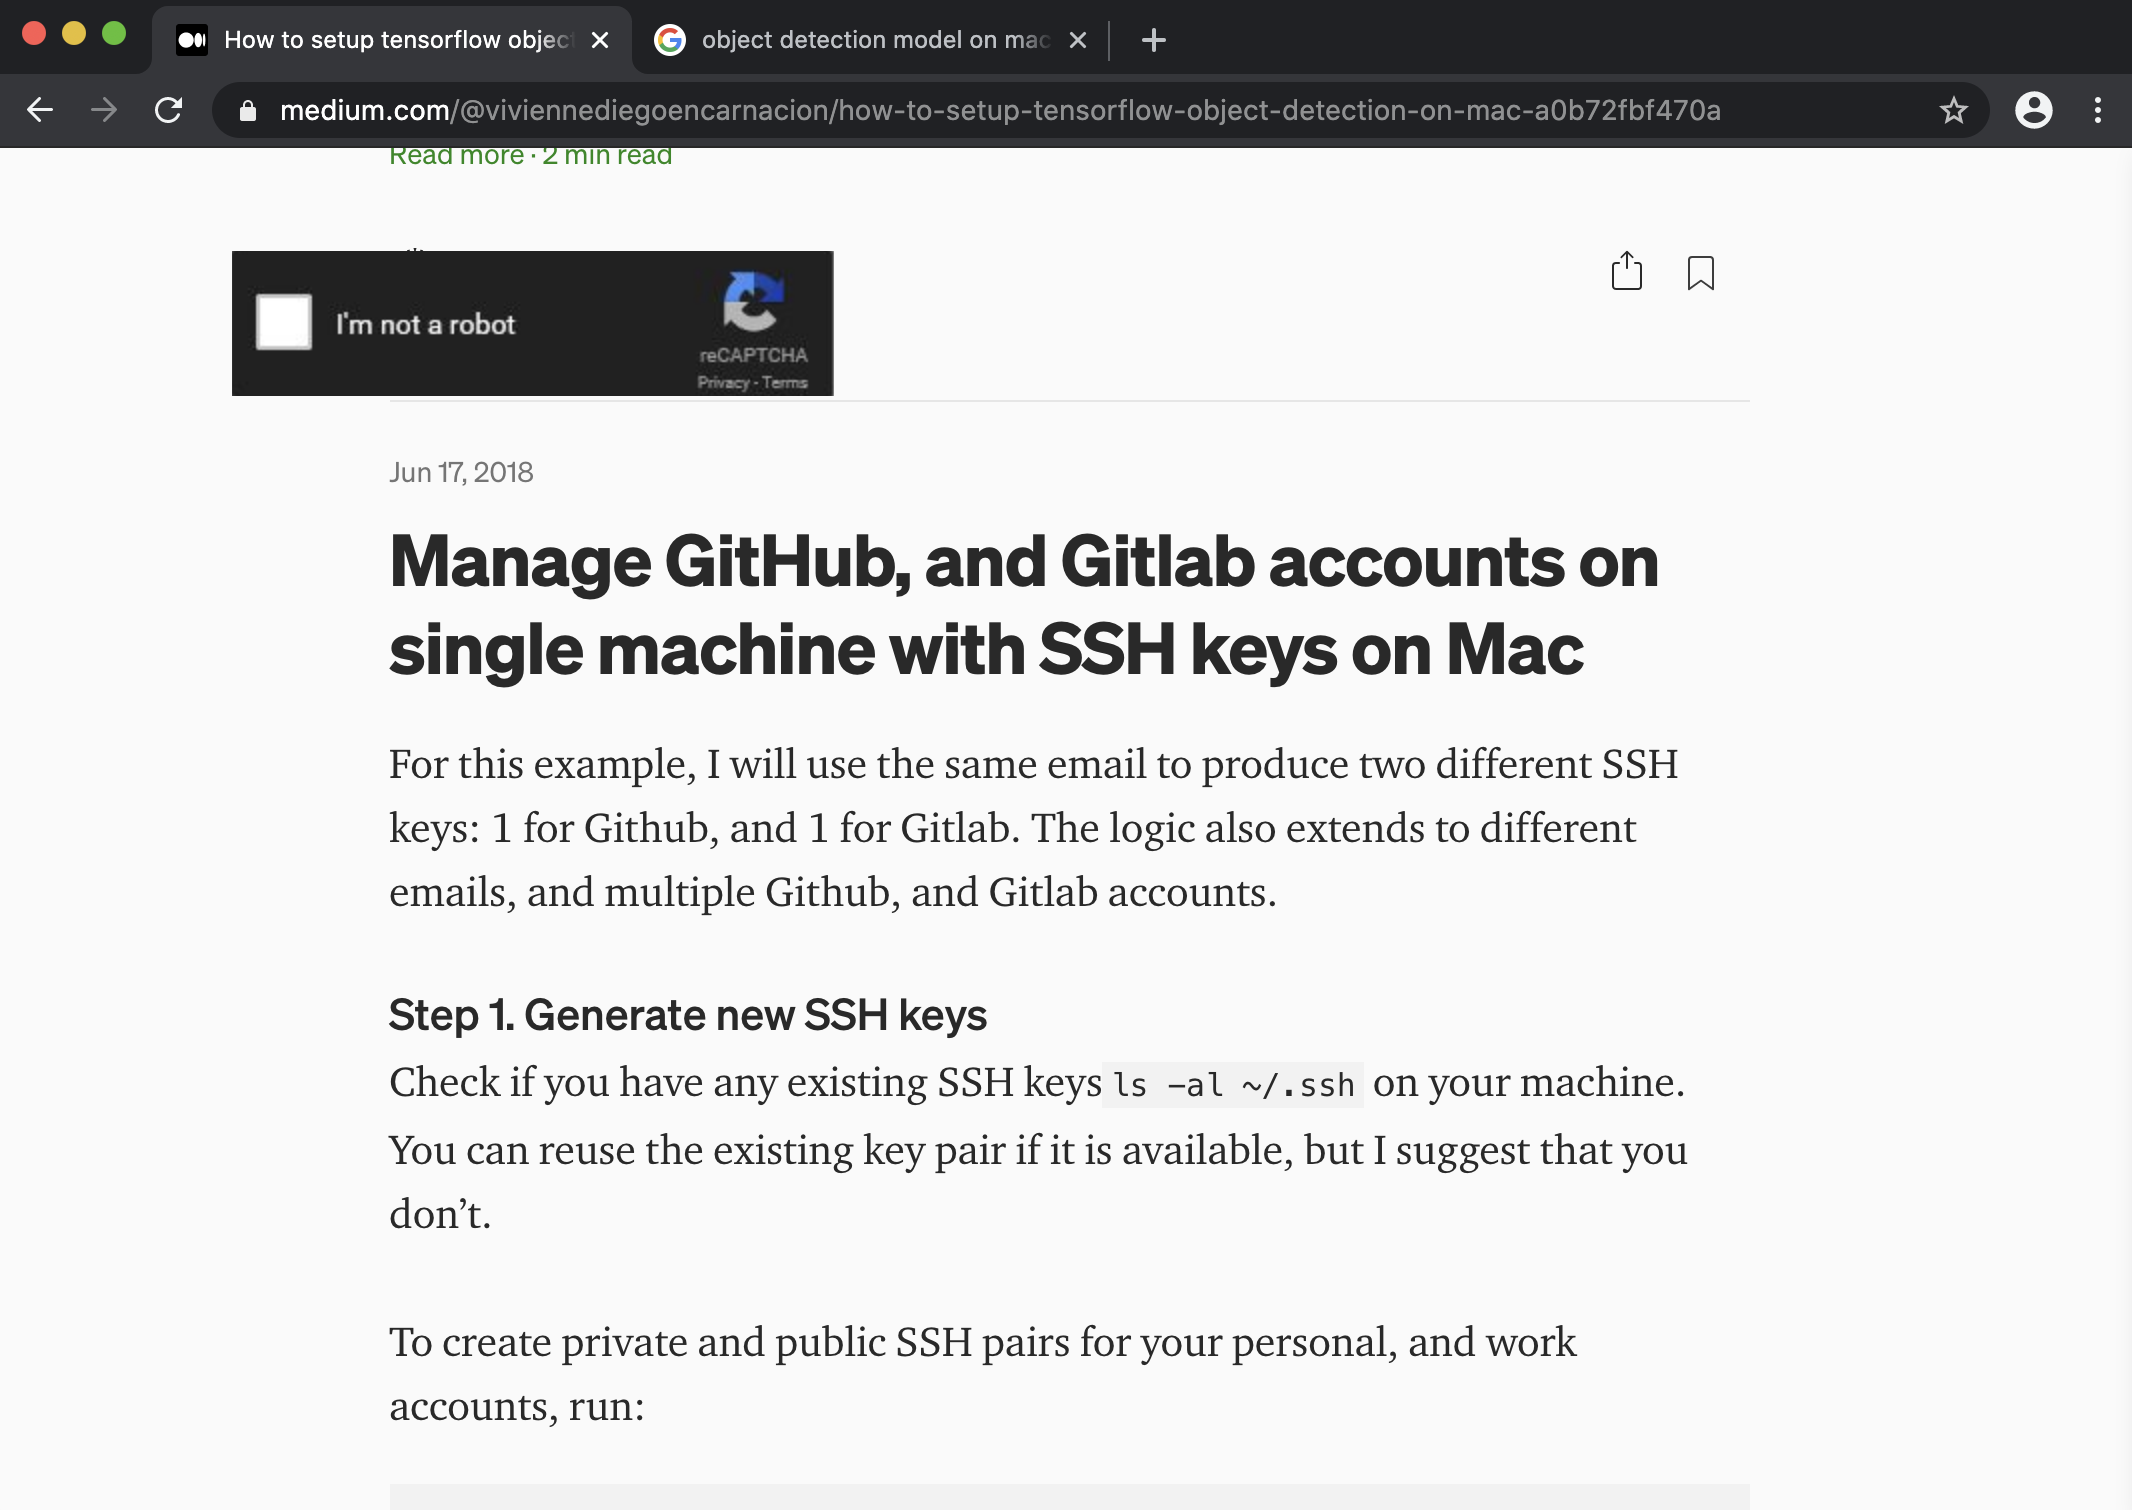captcha: (225, 245, 846, 404)
